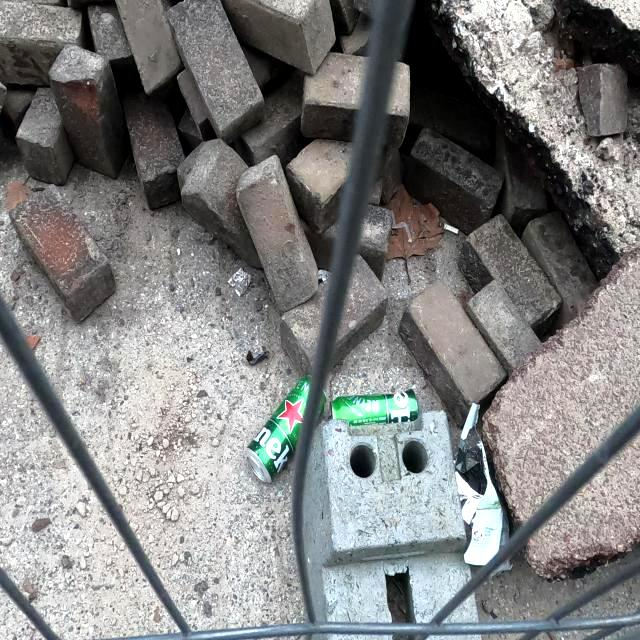Metal: (244, 373, 328, 485), (328, 386, 418, 428)
